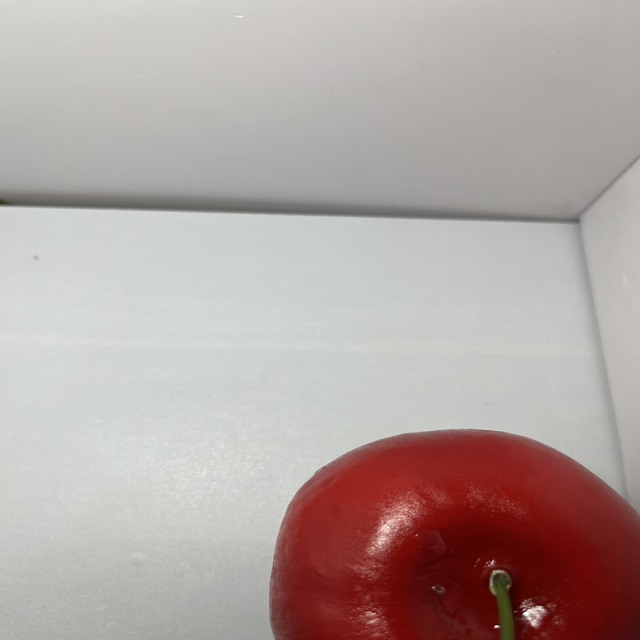Tao: (262, 424, 640, 640), (439, 403, 447, 427)
